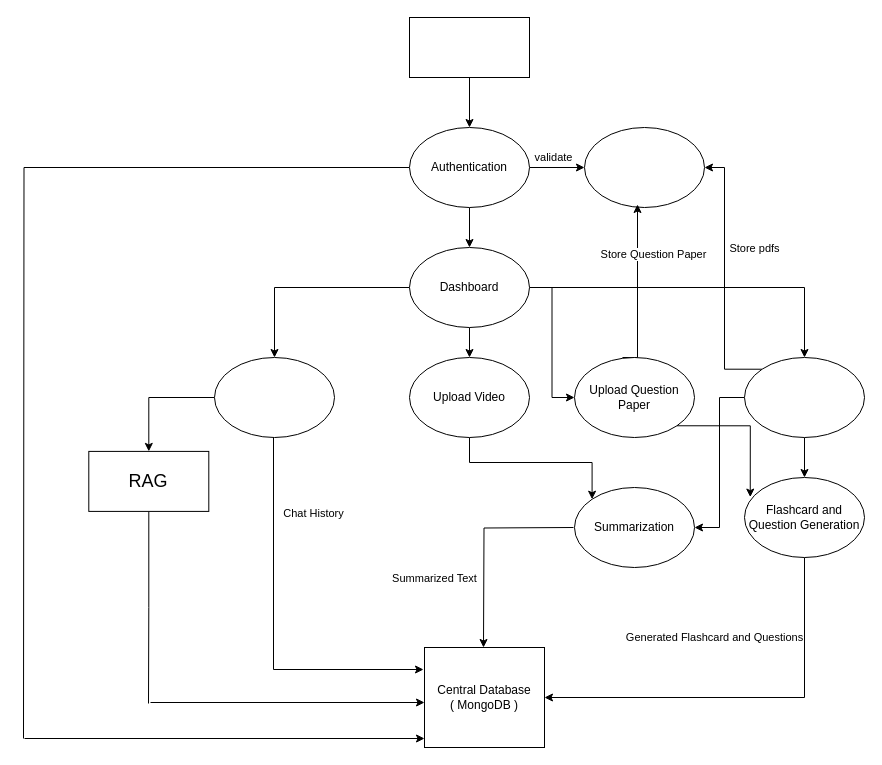
Image size: 882x765. Some labels were removed from this diagram. The shapes that lost their labels are listed below. From the top down, each one's centre as x and y in pixels, then its label:
At [469,47]: "User".
At [644,167]: "Appwrite".
At [274,397]: "Chatbot".
At [804,397]: "Upload pdf".
